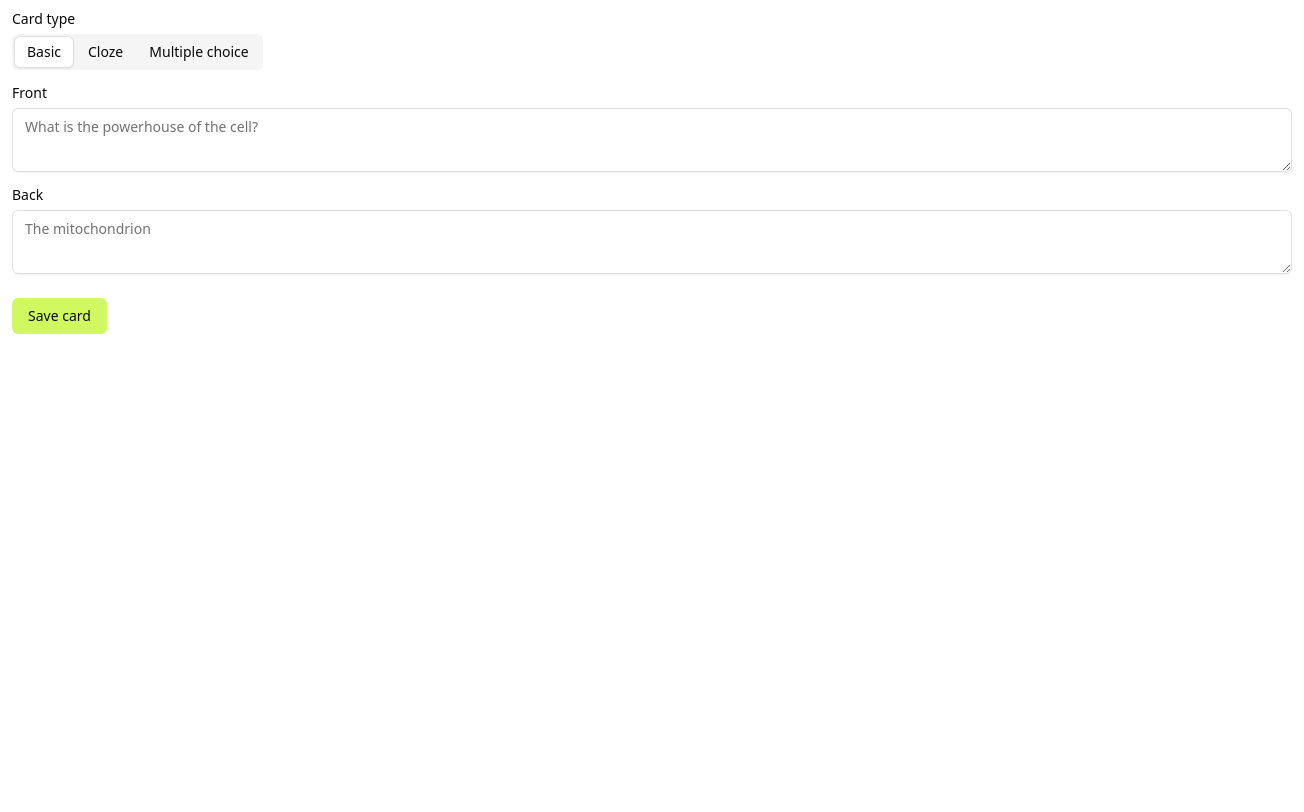
Test: the other two kinds › refuses a multiple-choice card with a blank option
Click the button "Multiple choice" at (199, 52), box [137, 36, 261, 68]
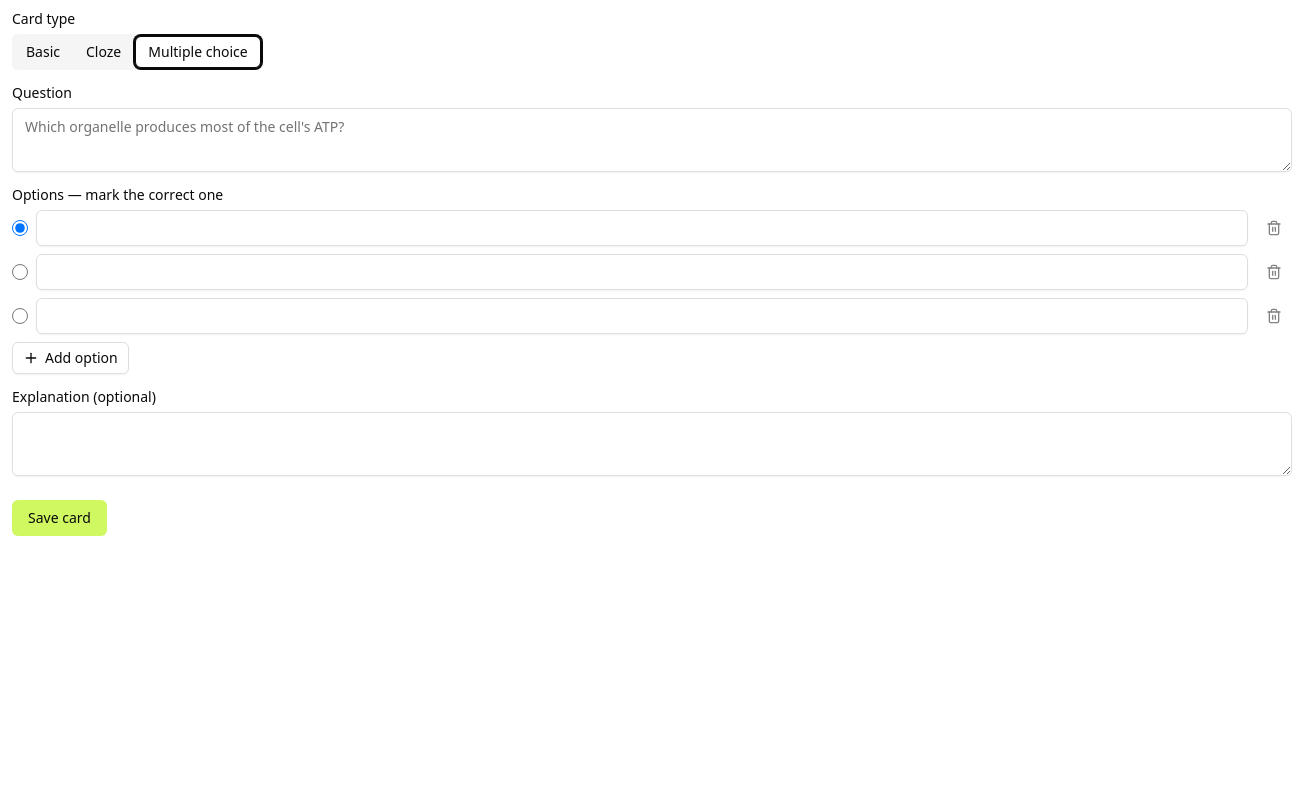
Type "Incomplete" into the text box labelled "Question" at (652, 140), box [12, 108, 1292, 172]
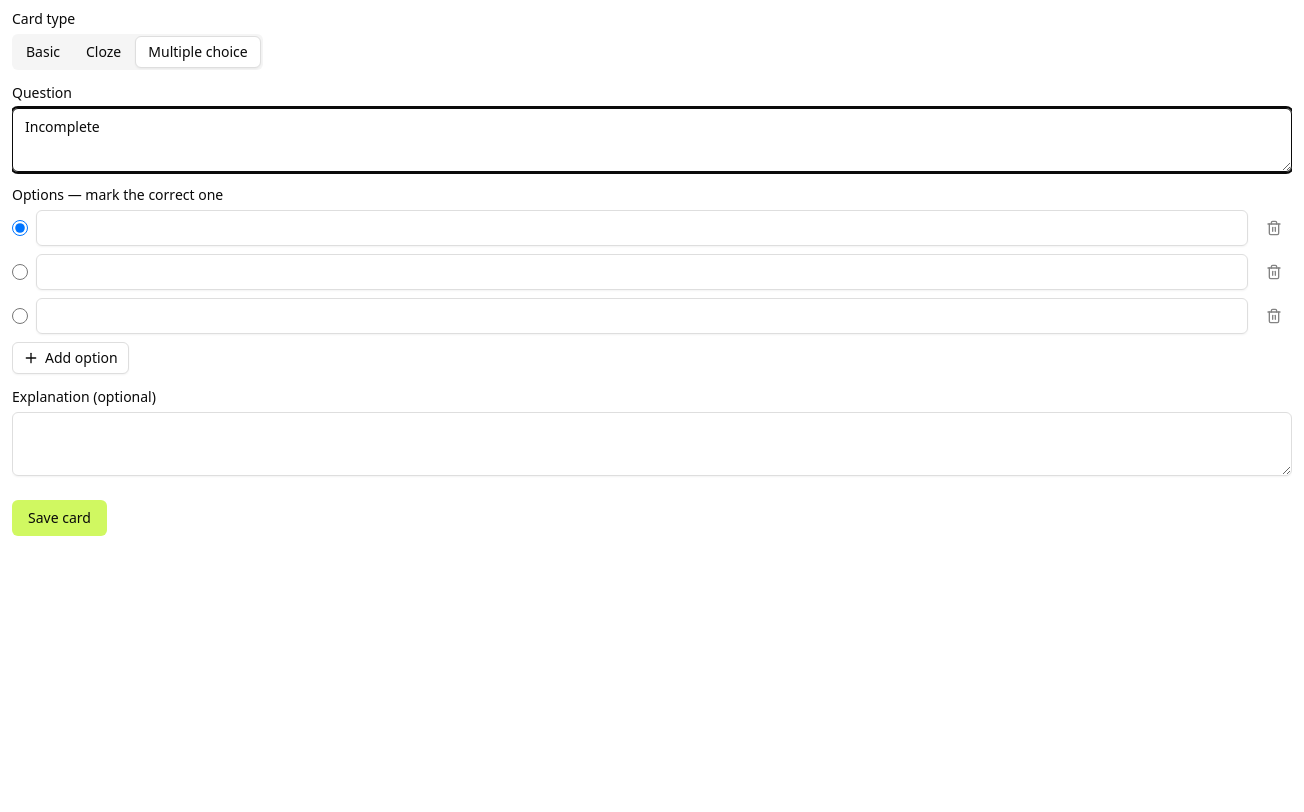
Type "only one filled in" into the field named "Option 1" at (642, 228), box [36, 210, 1248, 246]
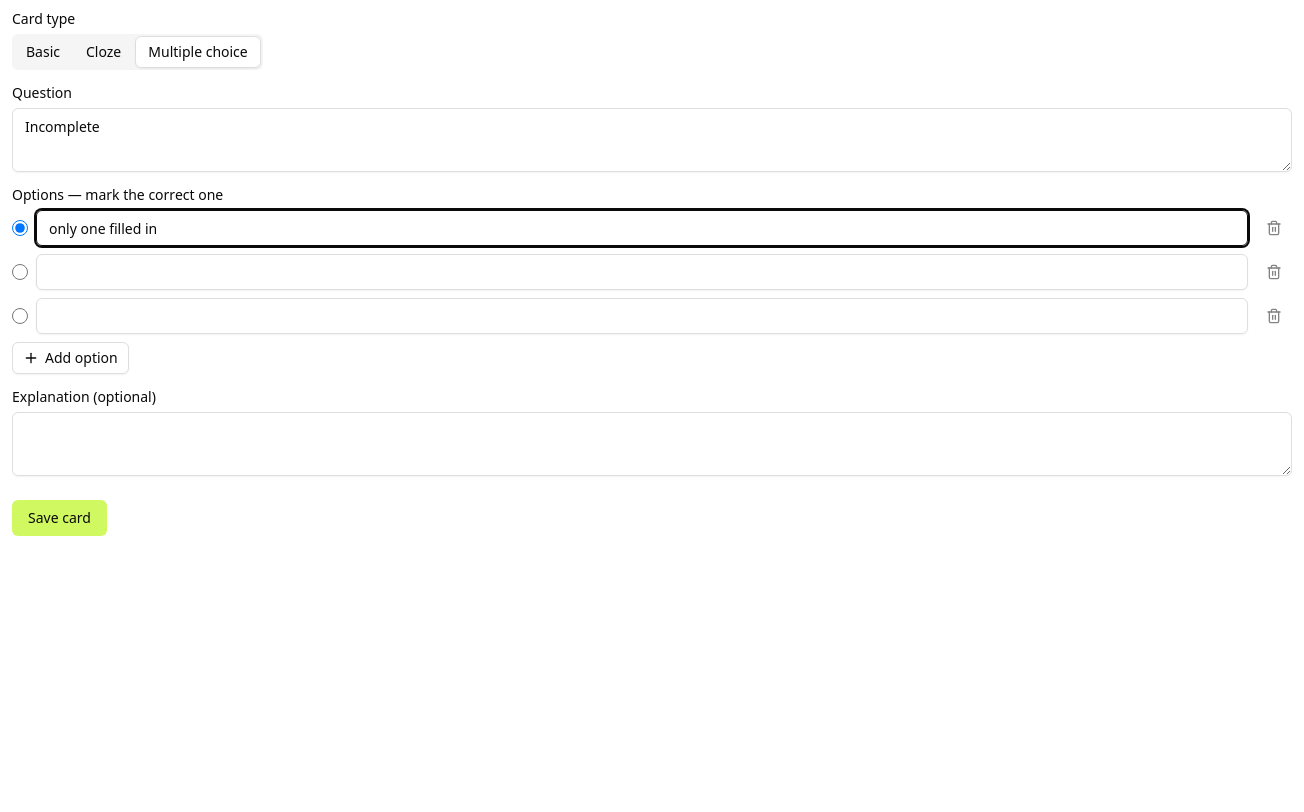
Click the button "Save card" at (59, 518), box [12, 500, 107, 536]
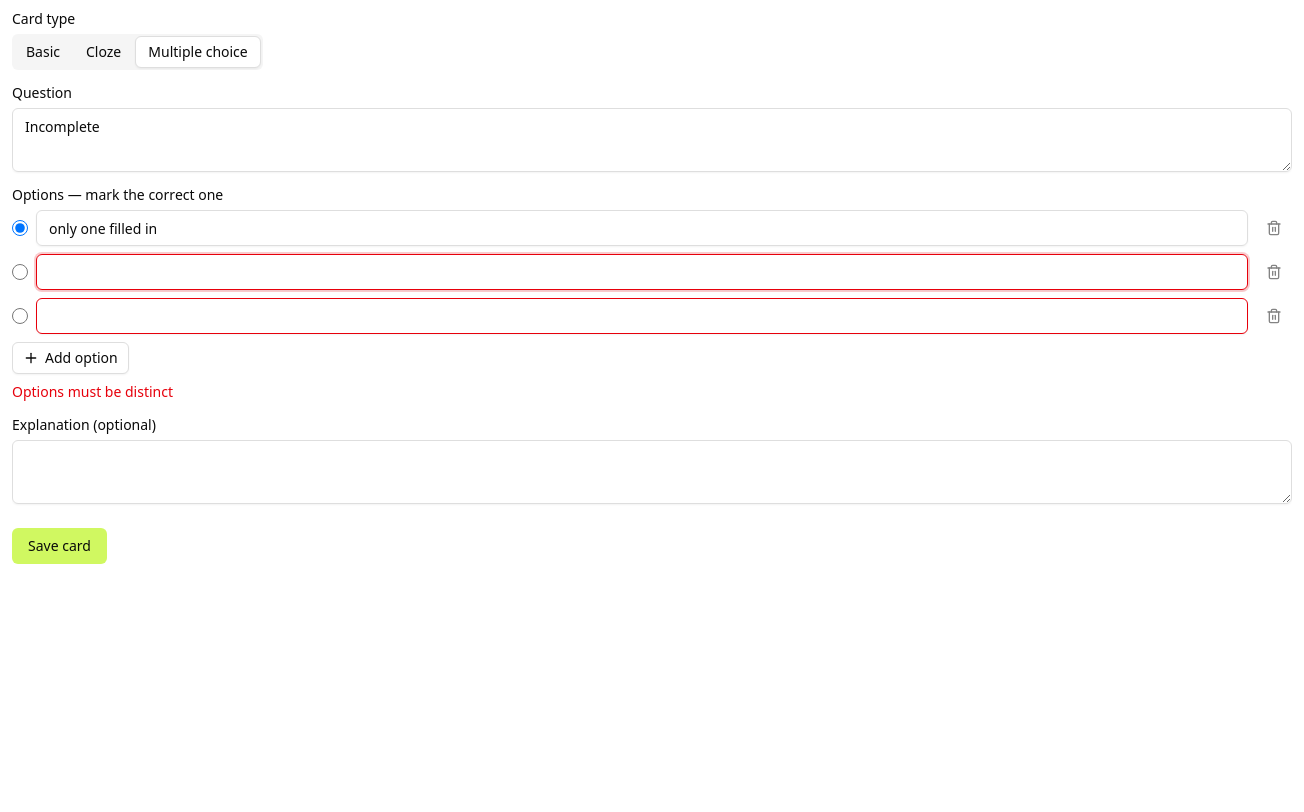
Expected: the message "Options must be distinct" is shown, [12, 382, 173, 401]
